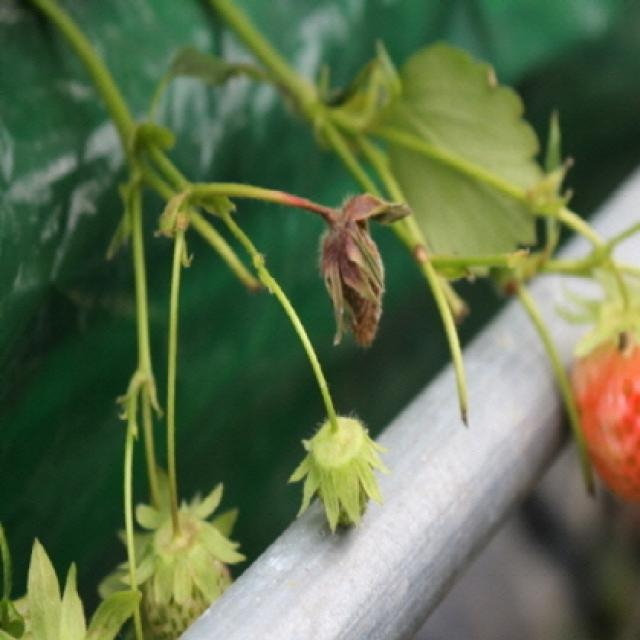Gray Mold: (296, 191, 413, 350)
